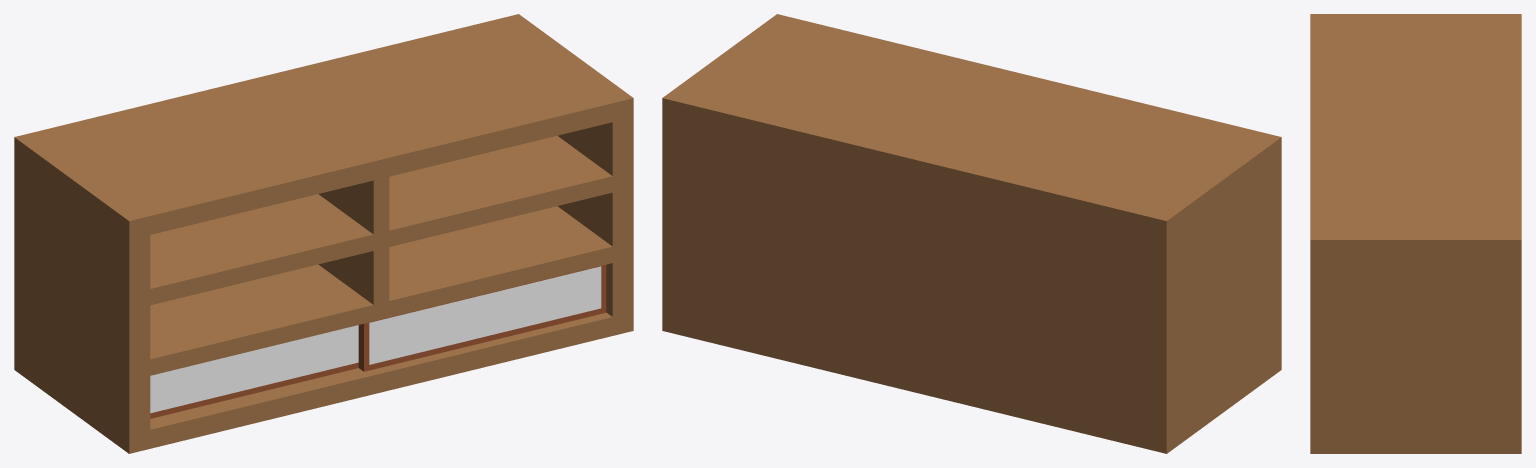
The model's file is TVTable.fbx.
3 views of the same model, side by side, from view 1: azimuth 30°, elevation 25°; view 2: azimuth 150°, elevation 25°; view 3: azimuth 270°, elevation 25° (orthographic). The views are drawn at different scales.
Visible parts, largest first — view 1: TVTable; view 2: TVTable; view 3: TVTable.
Boxes of the visible parts, x1=… form: TVTable: x1=14, y1=14, x2=633, y2=453; TVTable: x1=662, y1=14, x2=1281, y2=453; TVTable: x1=1310, y1=14, x2=1521, y2=453.
Bounding box in the file's own units: 180 × 79.46 × 71.08.
